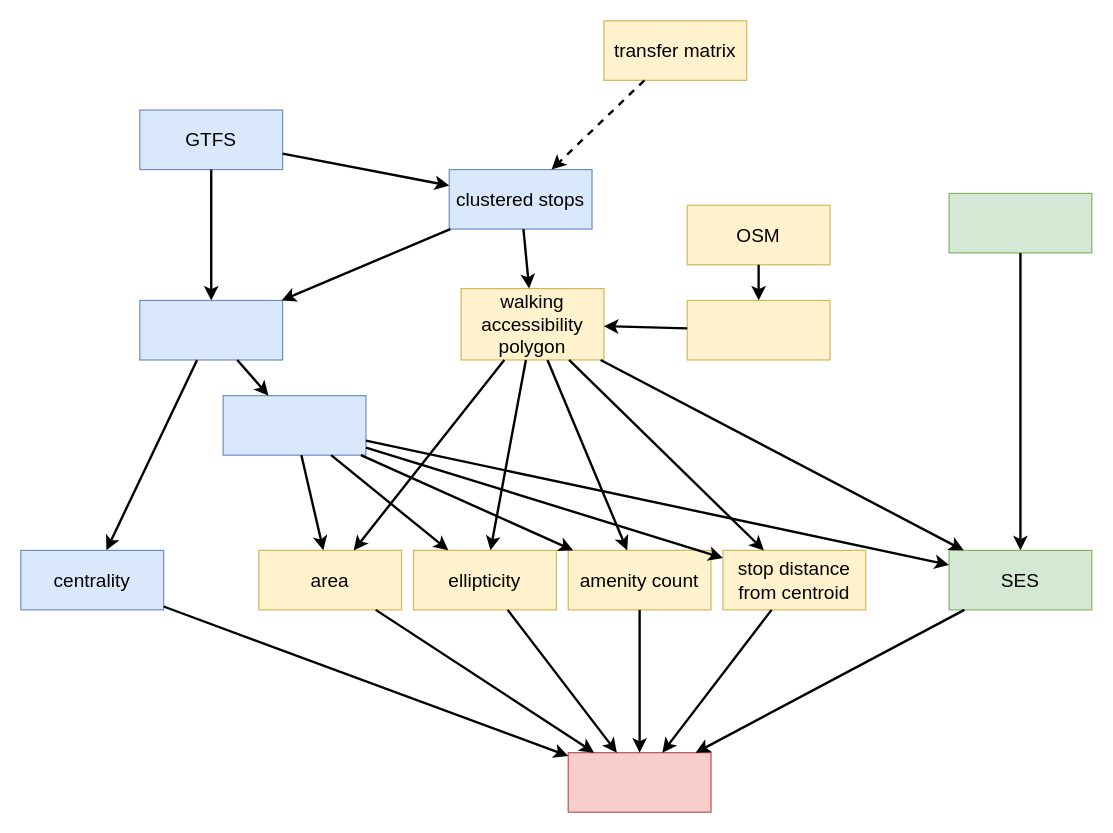
Image size: 1113x833. Some labels were removed from this diagram. The centre of each missing label's shape, as x and y in pixels:
gini: (x=1020, y=222)
multimodal accessible stops: (x=294, y=424)
regression: (x=639, y=781)
transportation network: (x=211, y=329)
valhalla network: (x=758, y=329)
